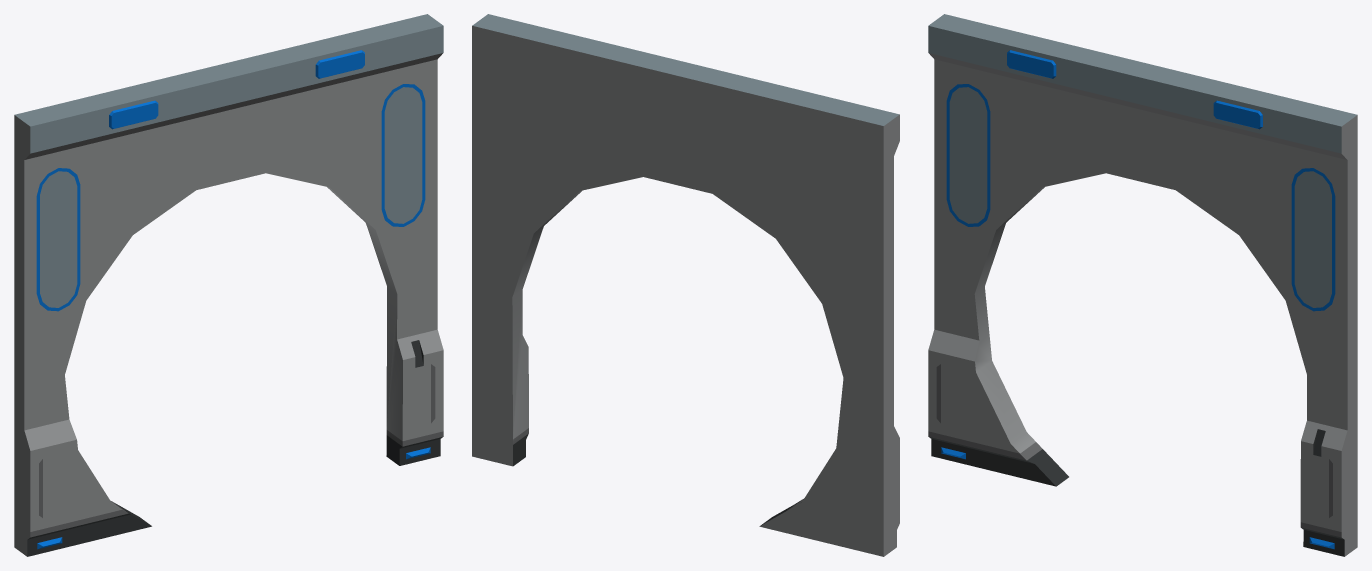
The model's file is Wall_type_B_055.fbx.
The picture shows the model from 3 angles, left to right: view 1: azimuth 30°, elevation 25°; view 2: azimuth 150°, elevation 25°; view 3: azimuth 330°, elevation 25°; orthographic projection.
Parts seen in each view (by area): view 1: Wall_type_B_055; view 2: Wall_type_B_055; view 3: Wall_type_B_055.
Boxes of the visible parts, <box> form: Wall_type_B_055: <box>14,14,443,556</box>; Wall_type_B_055: <box>472,14,899,556</box>; Wall_type_B_055: <box>928,14,1357,556</box>.
Bounding box in the file's own units: 400 × 28.98 × 400.
